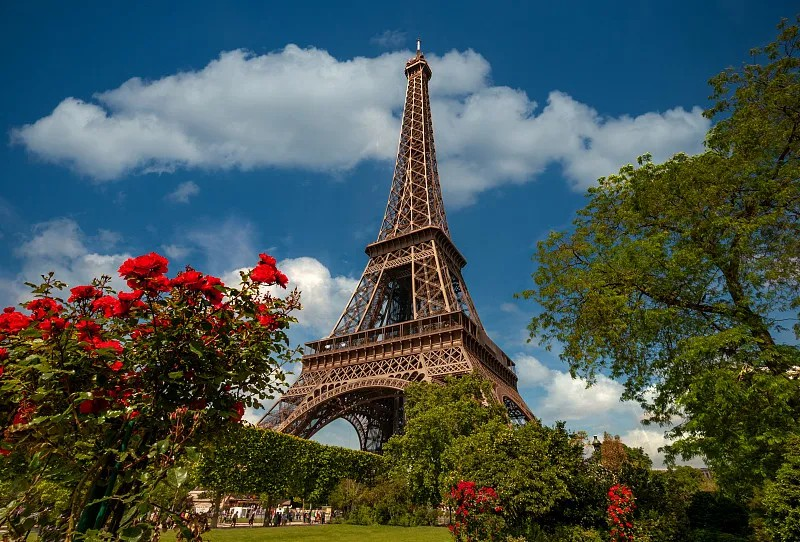Eiffel: (256, 38, 542, 460)
